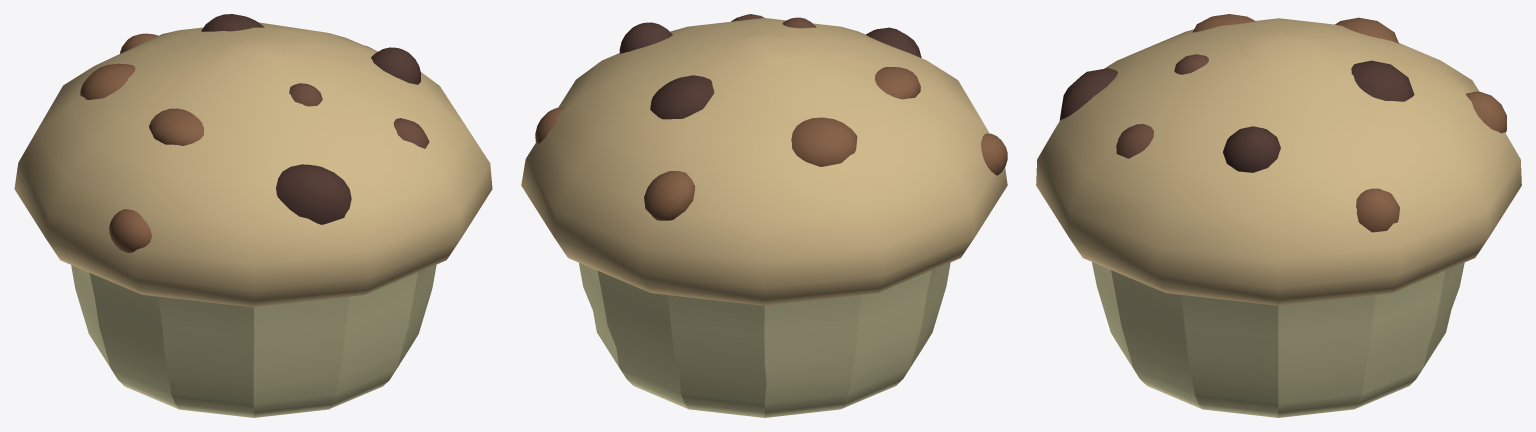
The model's file is atoll_muffinV2.fbx.
The picture shows the model from 3 angles, left to right: view 1: azimuth 30°, elevation 25°; view 2: azimuth 150°, elevation 25°; view 3: azimuth 270°, elevation 25°; orthographic projection.
Parts seen in each view (by area): view 1: Muffin, pSphere5, pSphere3, pSphere4, pSphere9, pSphere2, pSphere7, pSphere1, pSphere10; view 2: Muffin, pSphere9, pSphere7, pSphere8, pSphere3, pSphere2, pSphere4, pSphere5, pSphere6; view 3: Muffin, pSphere2, pSphere7, pSphere6, pSphere5, pSphere8, pSphere1, pSphere9, pSphere3, pSphere10.
Boxes of the visible parts, x1,y1,x2,y2 form: Muffin: [14, 22, 492, 417]; pSphere5: [276, 164, 351, 224]; pSphere3: [149, 108, 203, 145]; pSphere4: [109, 209, 151, 252]; pSphere9: [80, 63, 135, 99]; pSphere2: [371, 47, 420, 84]; pSphere7: [201, 14, 263, 31]; pSphere1: [393, 118, 429, 148]; pSphere10: [289, 83, 322, 106]; Muffin: [521, 18, 1007, 417]; pSphere9: [791, 117, 857, 166]; pSphere7: [650, 75, 714, 119]; pSphere8: [644, 171, 695, 220]; pSphere3: [875, 67, 920, 99]; pSphere2: [619, 22, 672, 53]; pSphere4: [981, 133, 1007, 175]; pSphere5: [866, 27, 921, 57]; pSphere6: [535, 107, 564, 143]; Muffin: [1036, 18, 1521, 417]; pSphere2: [1223, 126, 1280, 172]; pSphere7: [1351, 60, 1414, 101]; pSphere6: [1356, 188, 1399, 232]; pSphere5: [1059, 68, 1117, 120]; pSphere8: [1466, 91, 1506, 133]; pSphere1: [1116, 124, 1153, 158]; pSphere9: [1335, 17, 1398, 43]; pSphere3: [1193, 14, 1255, 32]; pSphere10: [1174, 54, 1208, 74].
Bounding box in the file's own units: 7.48 × 5.36 × 7.48.
